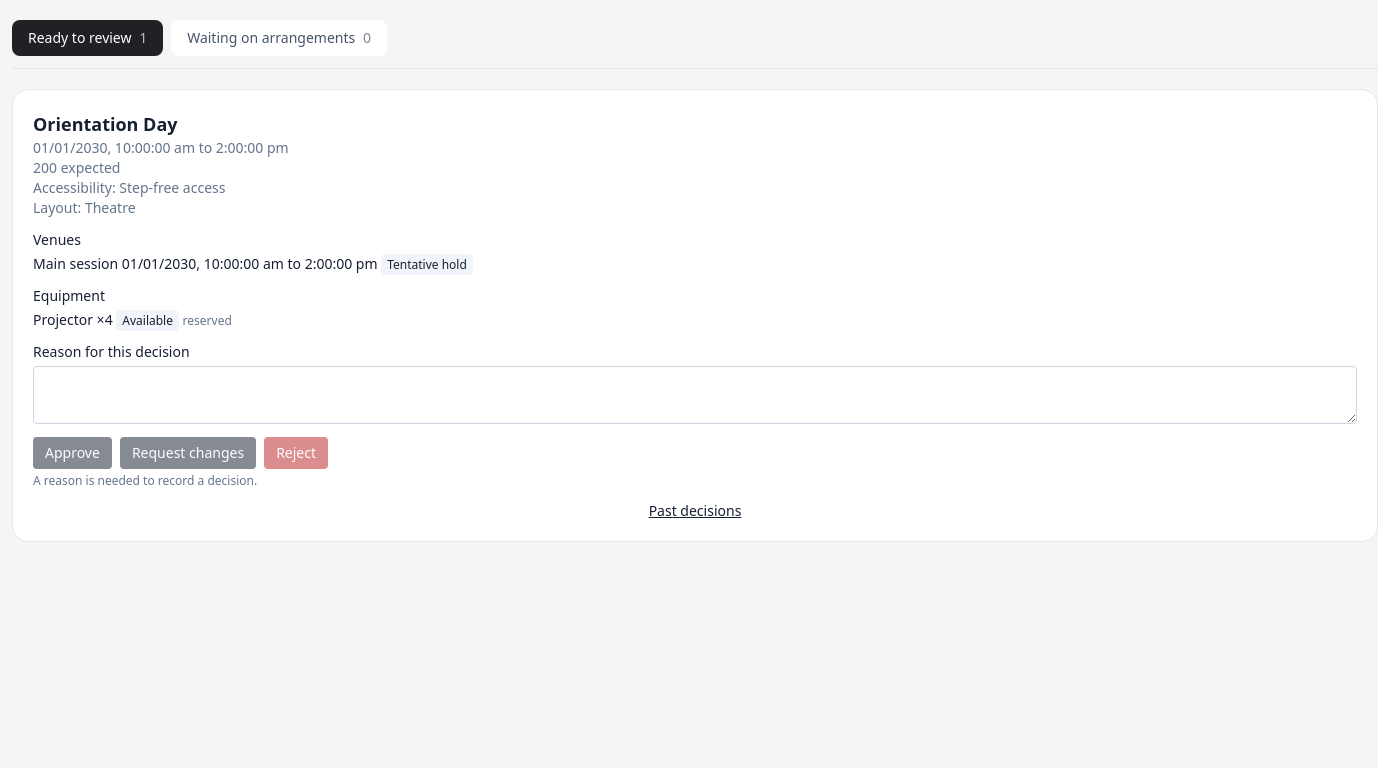
requesting changes is offered as its own decision
Type "Add a second exit." into the text box labelled "Reason for this decision" at (695, 395), box [33,366,1357,424]
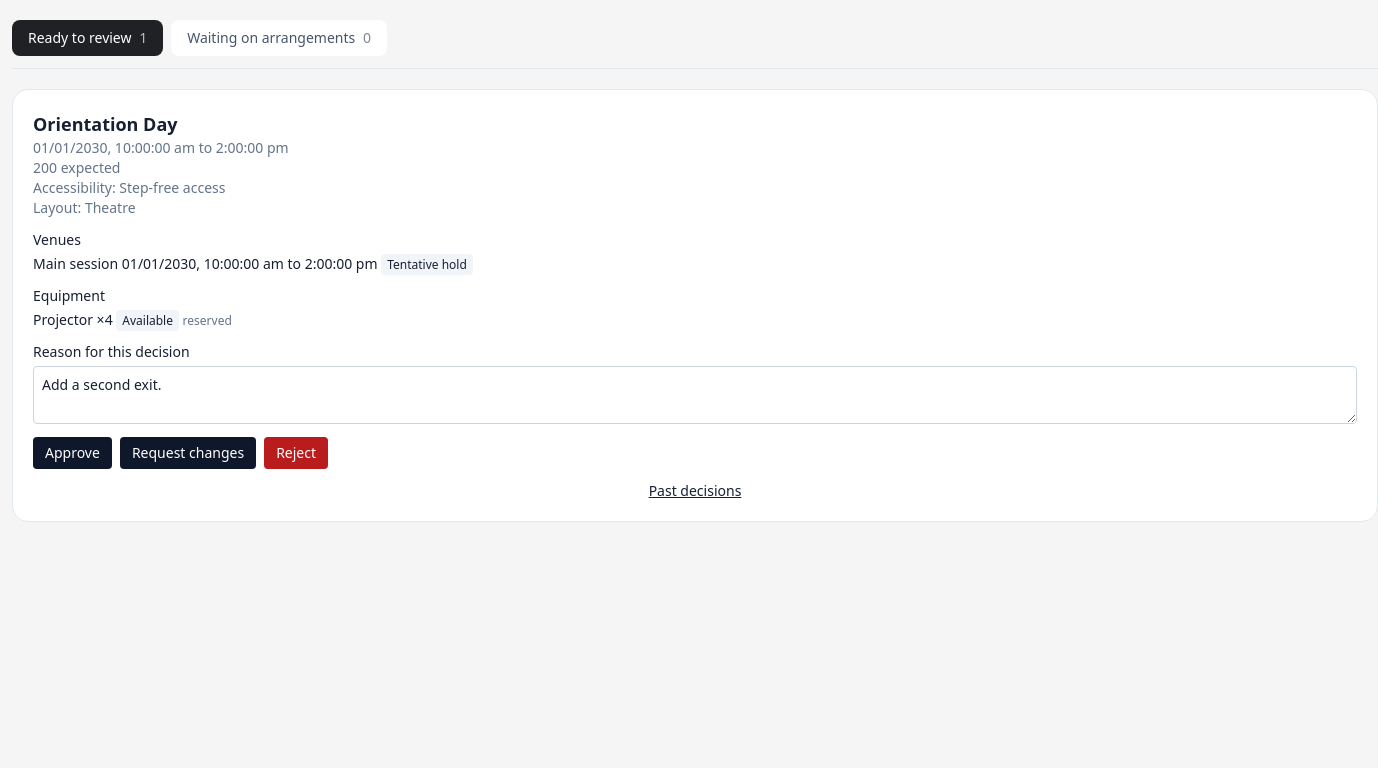
Click the button with aria-label "Request changes the plan for Orientation Day" at (188, 453), box [120,437,256,469]
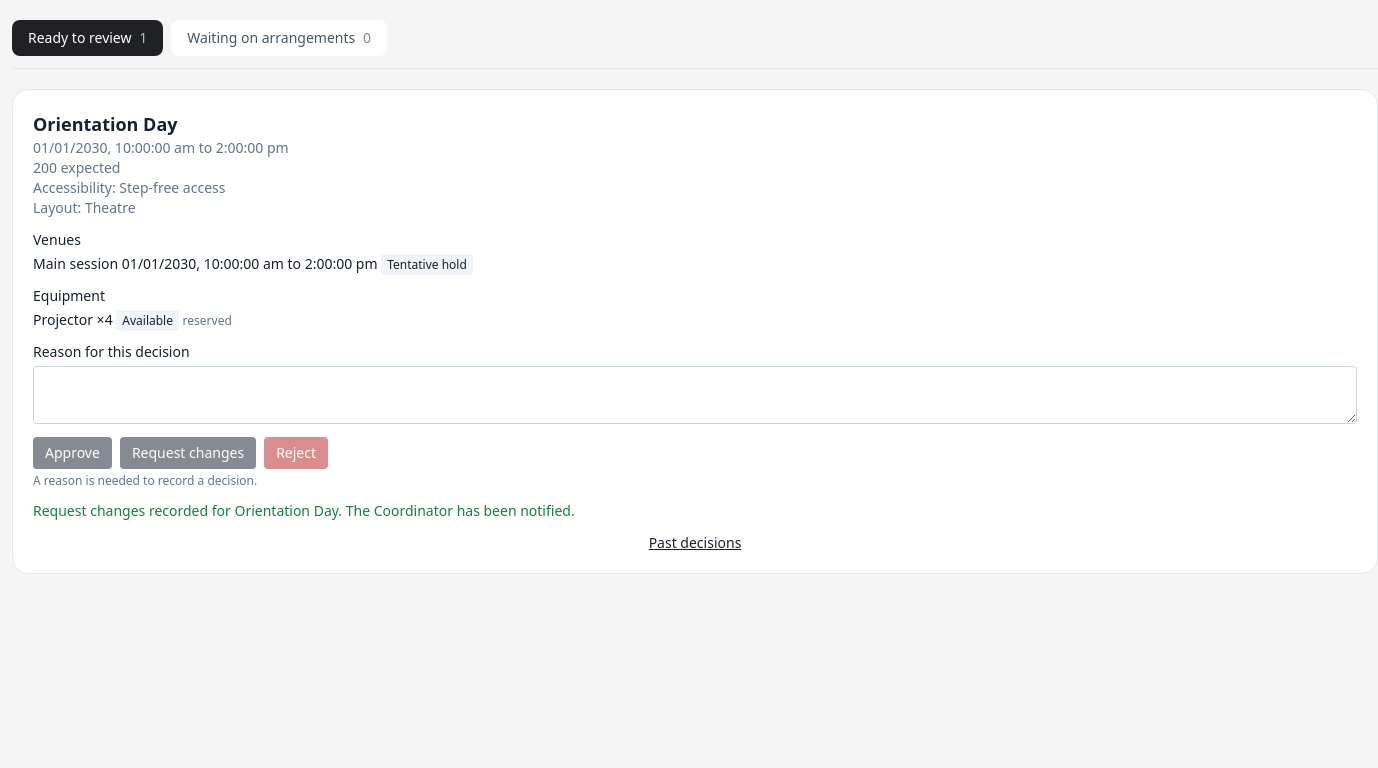
Result: the message reads "Request changes recorded for Orientation Day. The Coordinator has been notified." at [33,501,575,520]
